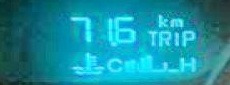-: (108, 39, 117, 46)
1: (98, 14, 112, 41)
6: (112, 14, 137, 41)
7: (65, 14, 94, 43)
X: (179, 27, 195, 47), (177, 54, 195, 71), (103, 56, 122, 72), (153, 12, 167, 27), (157, 29, 170, 45), (145, 29, 157, 45), (169, 17, 184, 27), (170, 30, 179, 45)
